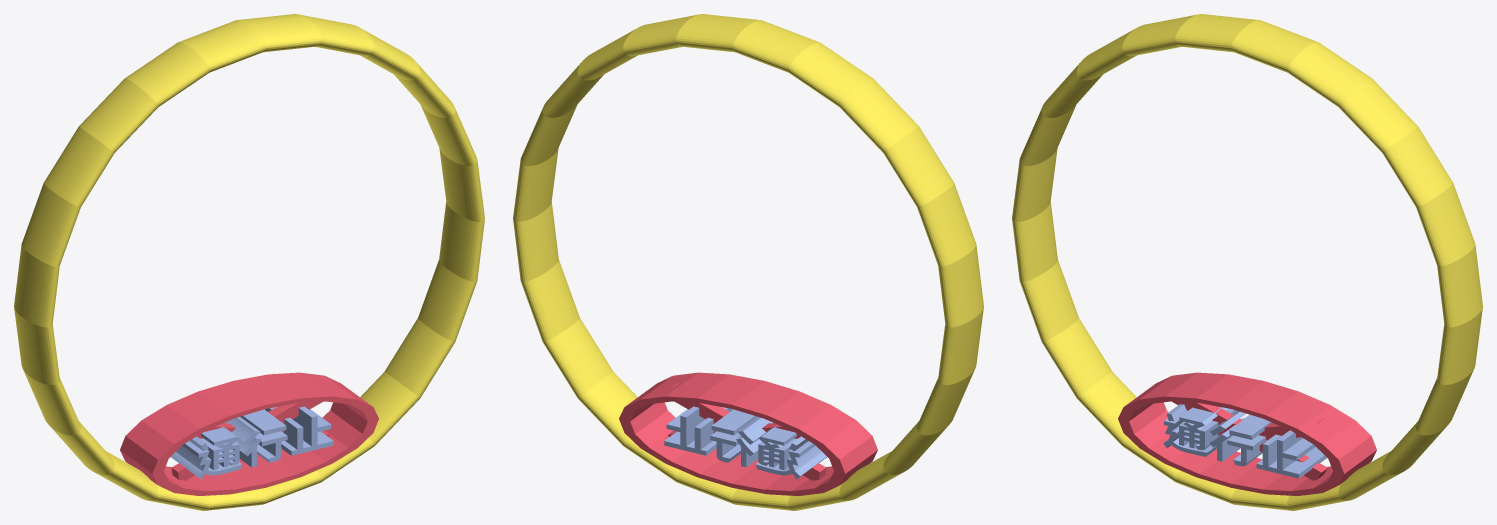
File: icon_warn3.fbx
3 views of the same model, side by side, from view 1: azimuth 30°, elevation 25°; view 2: azimuth 150°, elevation 25°; view 3: azimuth 330°, elevation 25° (orthographic).
Parts seen in each view (by area): view 1: obj_0.009; view 2: obj_0.009; view 3: obj_0.009.
Part boxes in pixels (bbox=[...]): obj_0.009: bbox=[14, 14, 484, 510]; obj_0.009: bbox=[513, 14, 983, 510]; obj_0.009: bbox=[1012, 14, 1482, 510].
Bounding box in the file's own units: 4000 × 4000 × 500.
